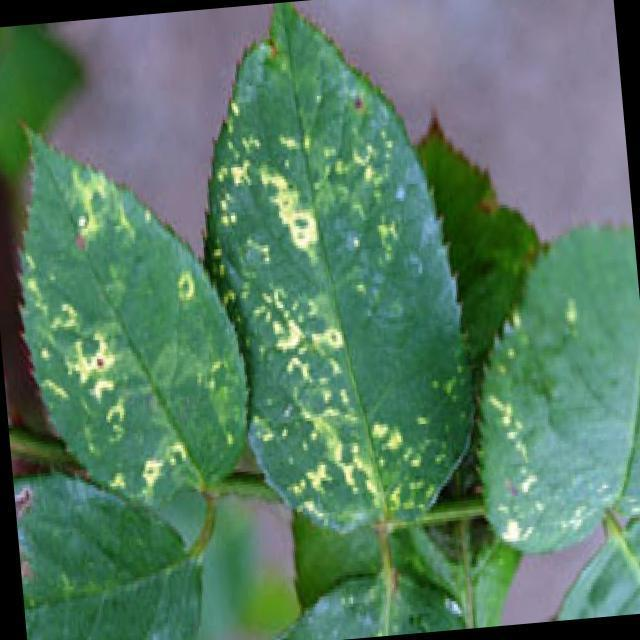Mosaic Virus: (222, 69, 430, 538), (39, 168, 220, 502), (480, 294, 618, 555)
